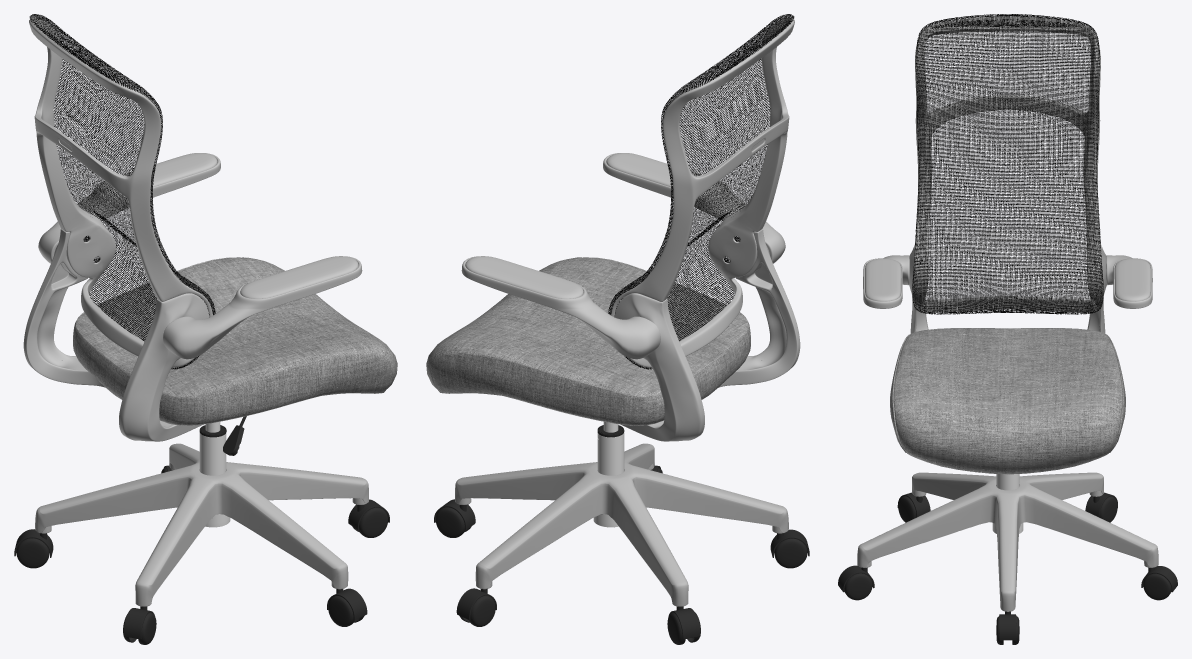
File: gaming_chair.glb
The picture shows the model from 3 angles, left to right: view 1: azimuth 30°, elevation 25°; view 2: azimuth 150°, elevation 25°; view 3: azimuth 270°, elevation 25°; orthographic projection. The views are drawn at different scales.
Parts seen in each view (by area): view 1: Buffer Object 8, polySurface34, Buffer Object 9, polySurface11, Merged Objects, Buffer Object 3; view 2: Buffer Object 8, polySurface34, Buffer Object 9, polySurface11, Merged Objects, Buffer Object 3; view 3: polySurface11, polySurface34, Buffer Object 8, Buffer Object 9, Merged Objects.
Boxes of the visible parts, x1,y1,x2,y2 form: Buffer Object 8: (23, 17, 362, 441); polySurface34: (73, 257, 397, 425); Buffer Object 9: (35, 443, 368, 606); polySurface11: (29, 14, 215, 369); Merged Objects: (14, 465, 389, 644); Buffer Object 3: (199, 432, 226, 475); Buffer Object 8: (461, 17, 800, 441); polySurface34: (426, 257, 750, 425); Buffer Object 9: (455, 443, 788, 606); polySurface11: (608, 14, 794, 369); Merged Objects: (434, 465, 809, 644); Buffer Object 3: (597, 432, 624, 475); polySurface11: (912, 14, 1103, 314); polySurface34: (890, 328, 1125, 474); Buffer Object 8: (863, 16, 1152, 333); Buffer Object 9: (857, 472, 1158, 611); Merged Objects: (838, 492, 1177, 644).
Bounding box in the file's own units: 0.8013 × 1.33 × 0.8237.
68 materials, 5 textured.
